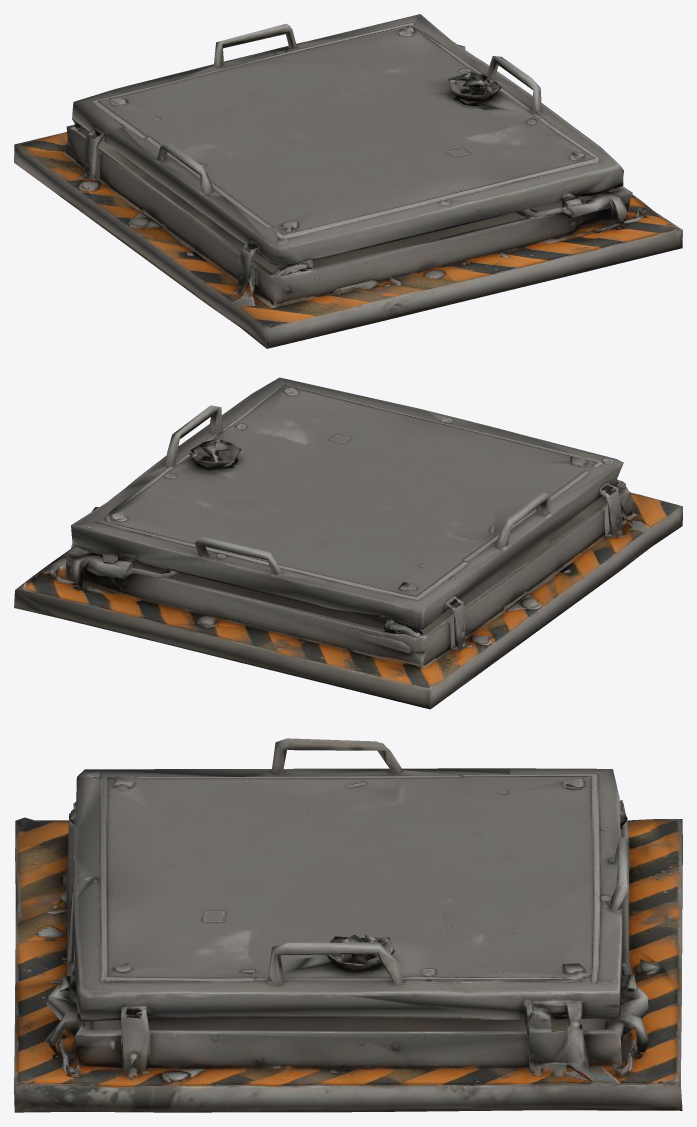
The model's file is exfil_hatch.glb.
The picture shows the model from 3 angles, top to bottom: view 1: azimuth 30°, elevation 25°; view 2: azimuth 150°, elevation 25°; view 3: azimuth 270°, elevation 25°; orthographic projection. The views are drawn at different scales.
Parts seen in each view (by area): view 1: Model; view 2: Model; view 3: Model.
Part boxes in pixels (left/top/right/bottom): Model: left=14, top=14, right=682, bottom=348; Model: left=14, top=377, right=682, bottom=709; Model: left=14, top=738, right=682, bottom=1112.
Bounding box in the file's own units: 2.83 × 0.6957 × 2.99.
Materials: 1 (1 with a texture image).
